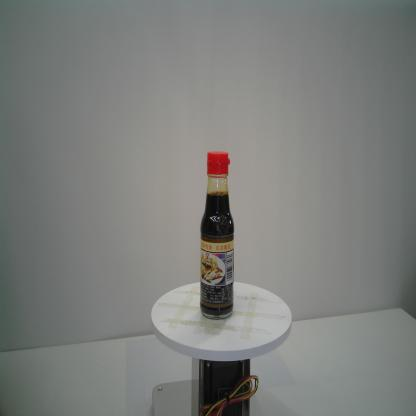Seasoner: (198, 151, 236, 320)
